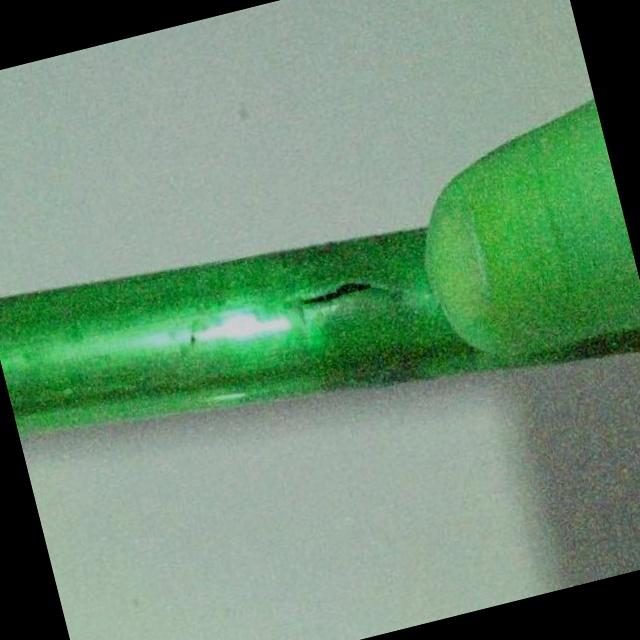Hole: (286, 256, 404, 336)
